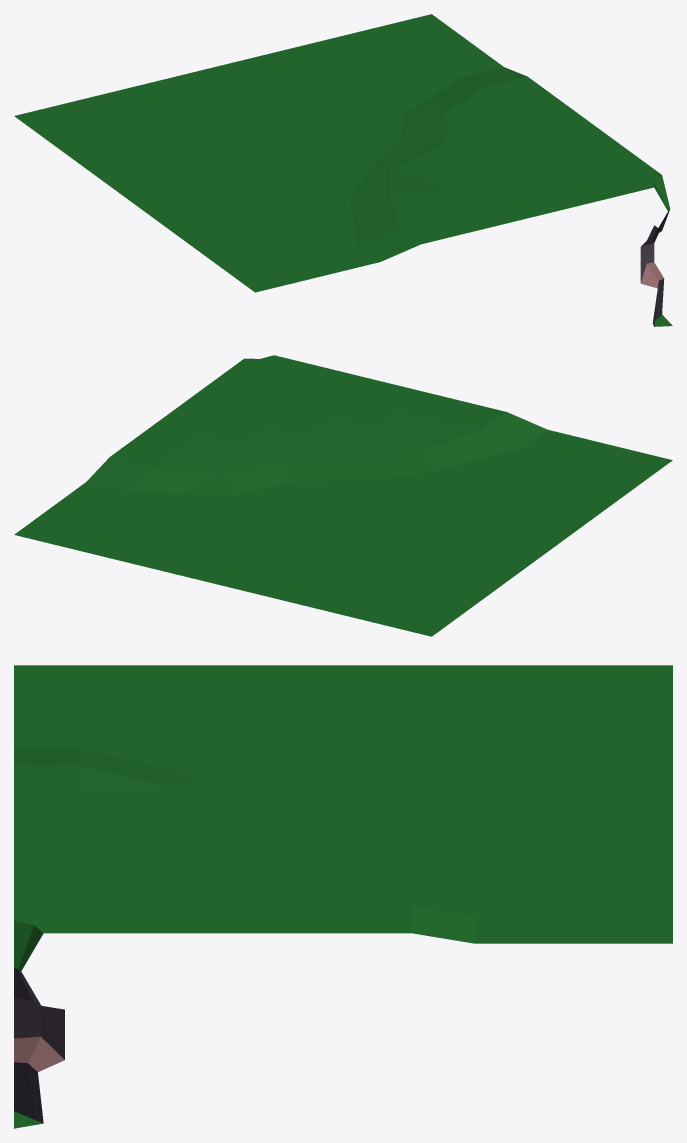
The model's file is Barranco_a_Cesped_Angulo.fbx.
3 renders of one model, top to bottom at view 1: azimuth 30°, elevation 25°; view 2: azimuth 150°, elevation 25°; view 3: azimuth 270°, elevation 25°, orthographic. The views are drawn at different scales.
Parts seen in each view (by area): view 1: Barranco_a_Cesped_Angulo; view 2: Barranco_a_Cesped_Angulo; view 3: Barranco_a_Cesped_Angulo.
Part boxes in pixels (<box>): Barranco_a_Cesped_Angulo: <box>14,14,672,326</box>; Barranco_a_Cesped_Angulo: <box>14,355,672,636</box>; Barranco_a_Cesped_Angulo: <box>14,665,672,1128</box>.
Bounding box in the file's own units: 2000 × 654 × 2000.
